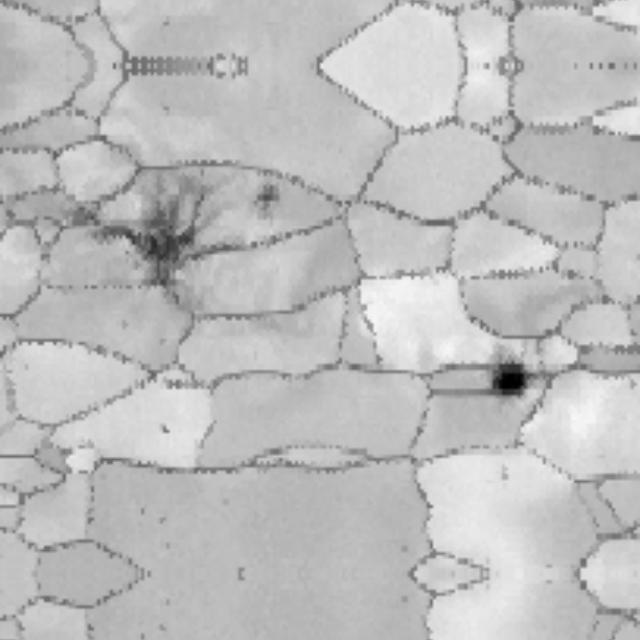good_void: (75, 155, 226, 312), (478, 346, 534, 401), (244, 177, 283, 227), (494, 463, 512, 483), (156, 417, 176, 434), (234, 573, 246, 585), (234, 562, 246, 573)
